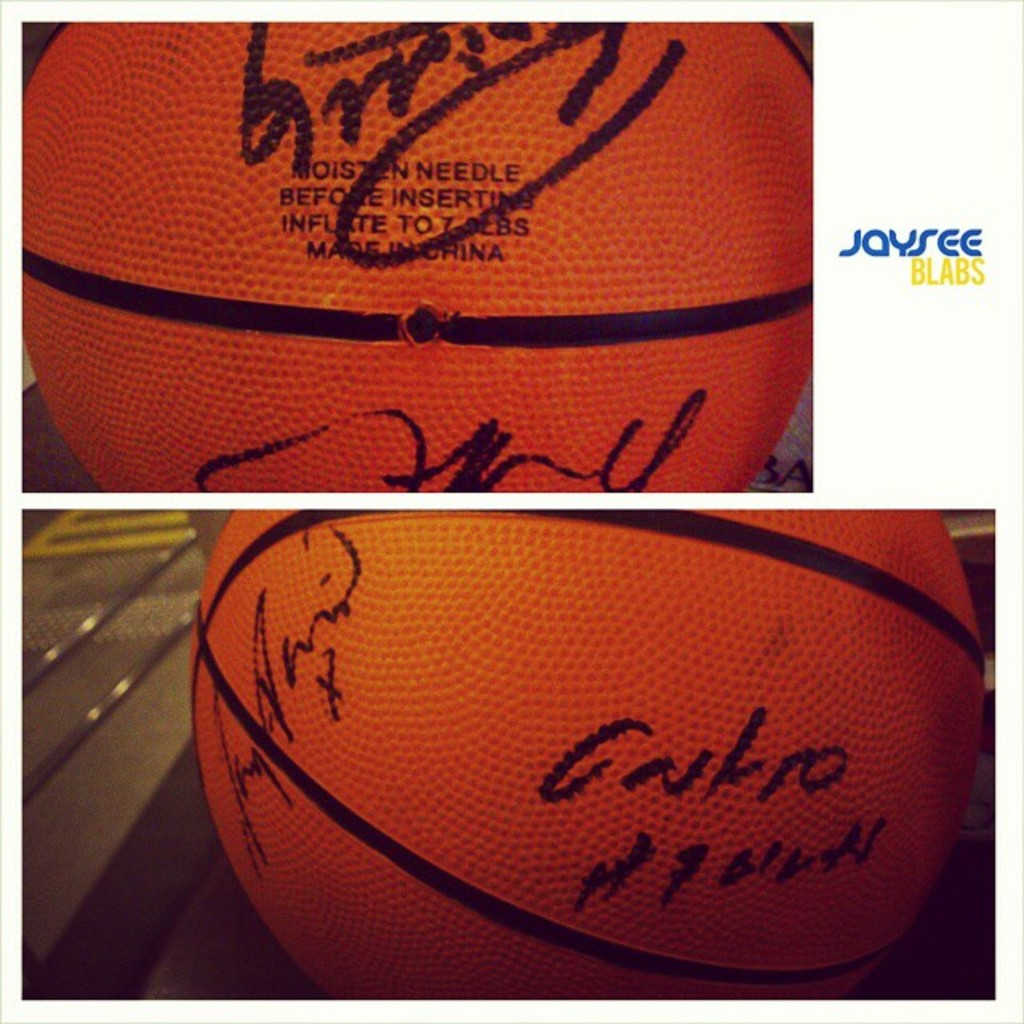Ball: (190, 507, 987, 998), (14, 22, 813, 488)
